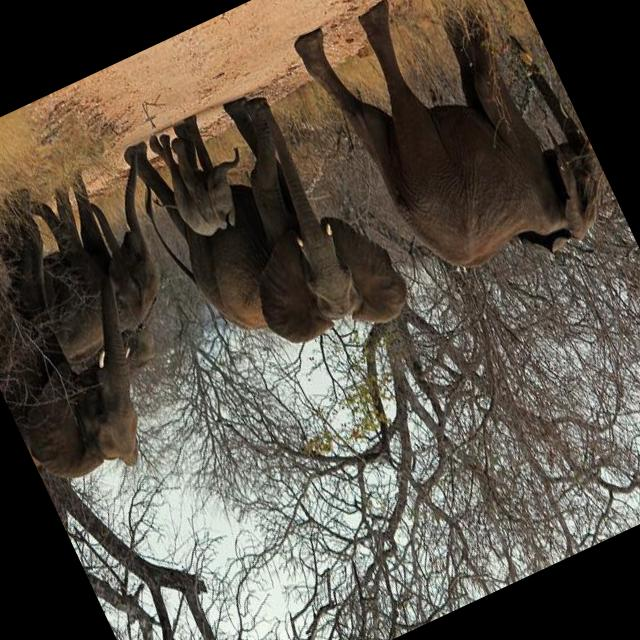elephant: (289, 0, 625, 320), (114, 61, 418, 396), (0, 172, 188, 506), (0, 146, 207, 376), (44, 167, 174, 379), (142, 100, 267, 246)
